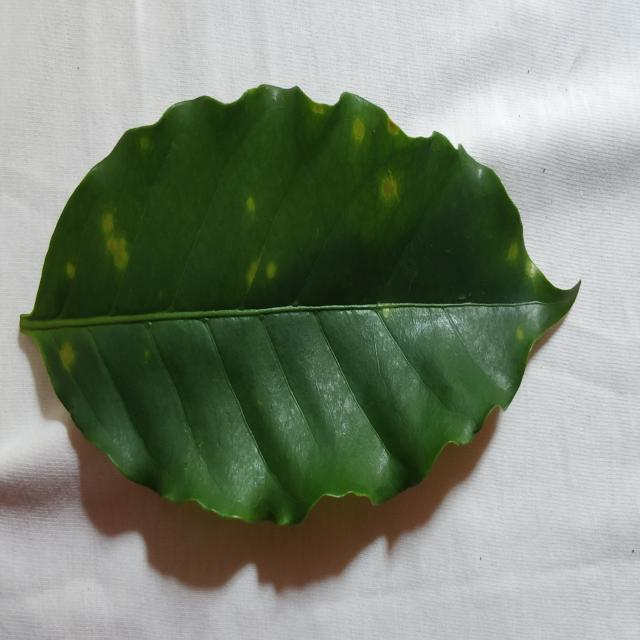Enfermedad-Roya: (18, 85, 582, 529)
